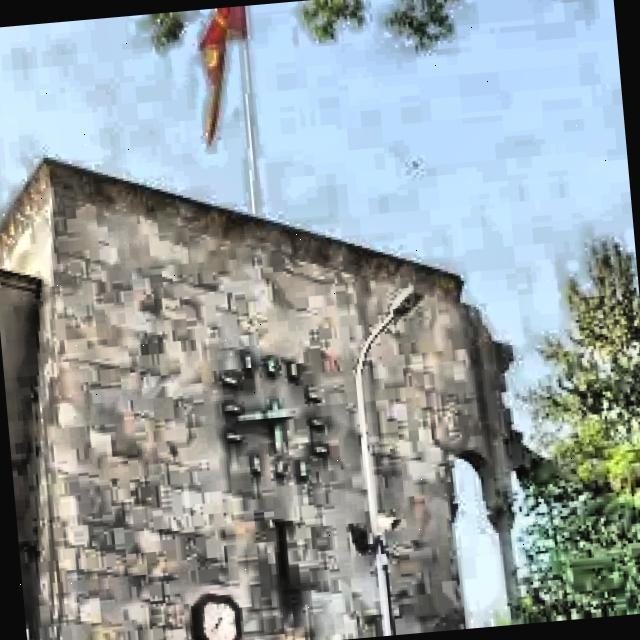old railway: (0, 117, 529, 640)
